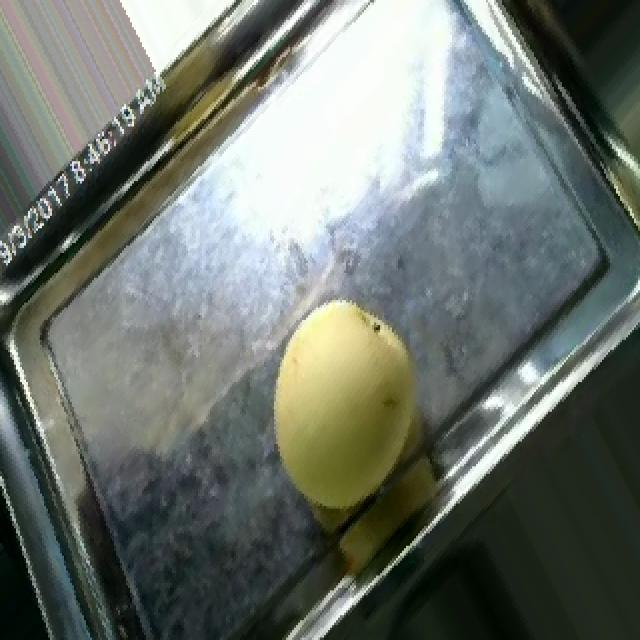Fruit: (226, 275, 470, 546)
